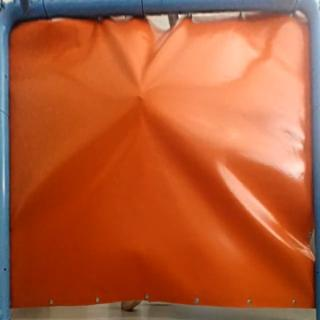Hit-hRxx: (130, 90, 155, 108)
